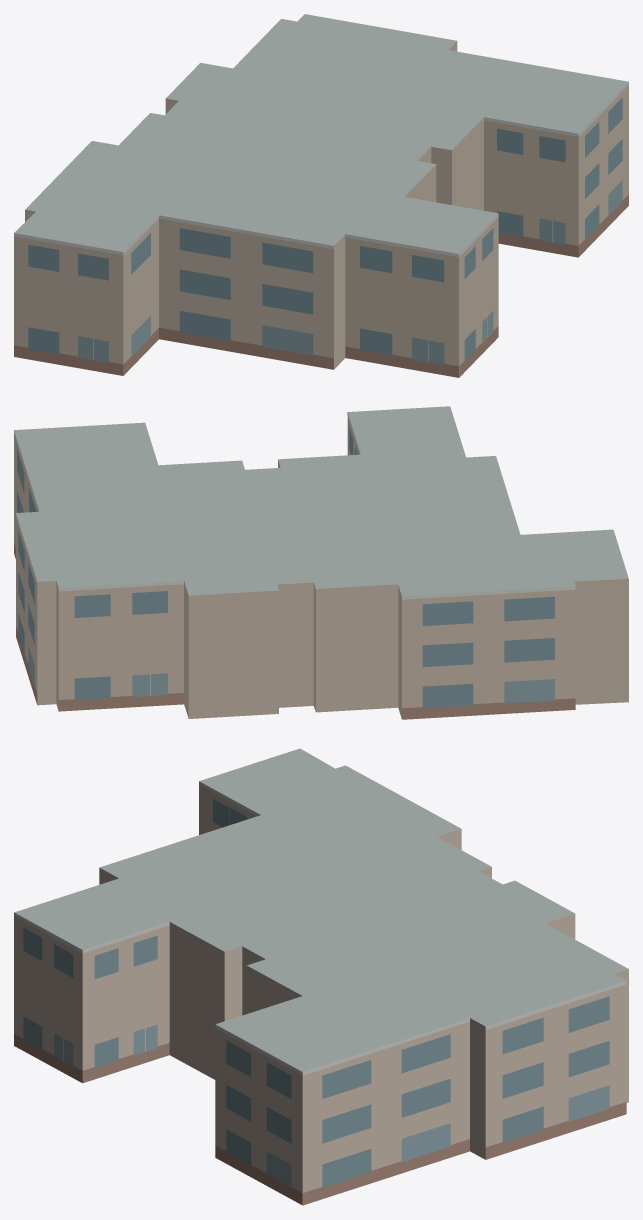
Rendered from survey-upis-32608952.glb.
3 renders of one model, top to bottom at view 1: azimuth 30°, elevation 25°; view 2: azimuth 150°, elevation 25°; view 3: azimuth 270°, elevation 25°, orthographic. The views are drawn at different scales.
Parts seen in each view (by area): view 1: survey-upis-32608952.tmp; view 2: survey-upis-32608952.tmp; view 3: survey-upis-32608952.tmp.
Boxes of the visible parts, <box> form: survey-upis-32608952.tmp: <box>14,14,628,377</box>; survey-upis-32608952.tmp: <box>14,406,628,719</box>; survey-upis-32608952.tmp: <box>14,748,628,1205</box>.
Size of the model in its own units: 47.63 by 9.15 by 38.23.
